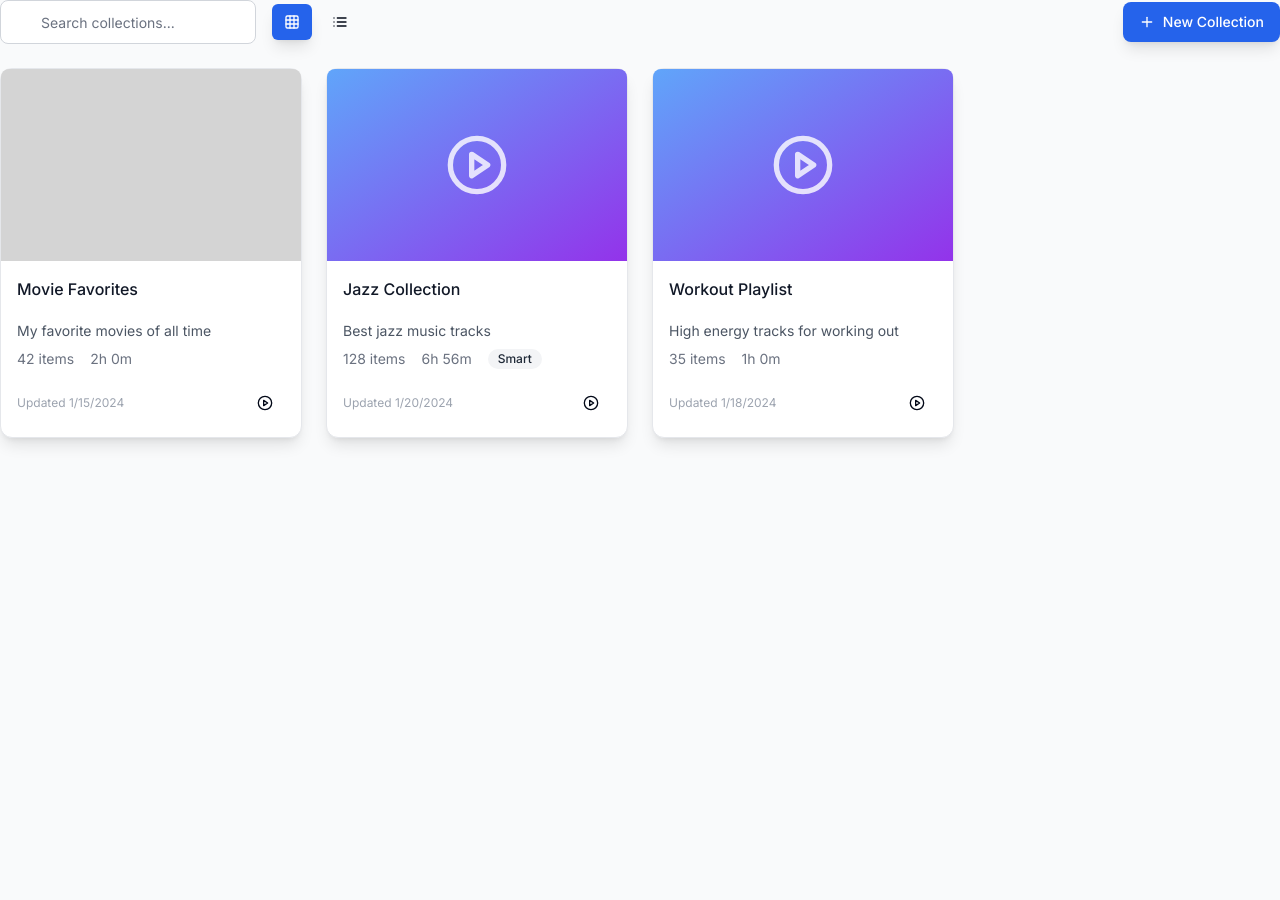
Test: CollectionsManager › closes create modal when Cancel is clicked
Click the button "New Collection" at (1201, 22), box [1123,2,1279,42]
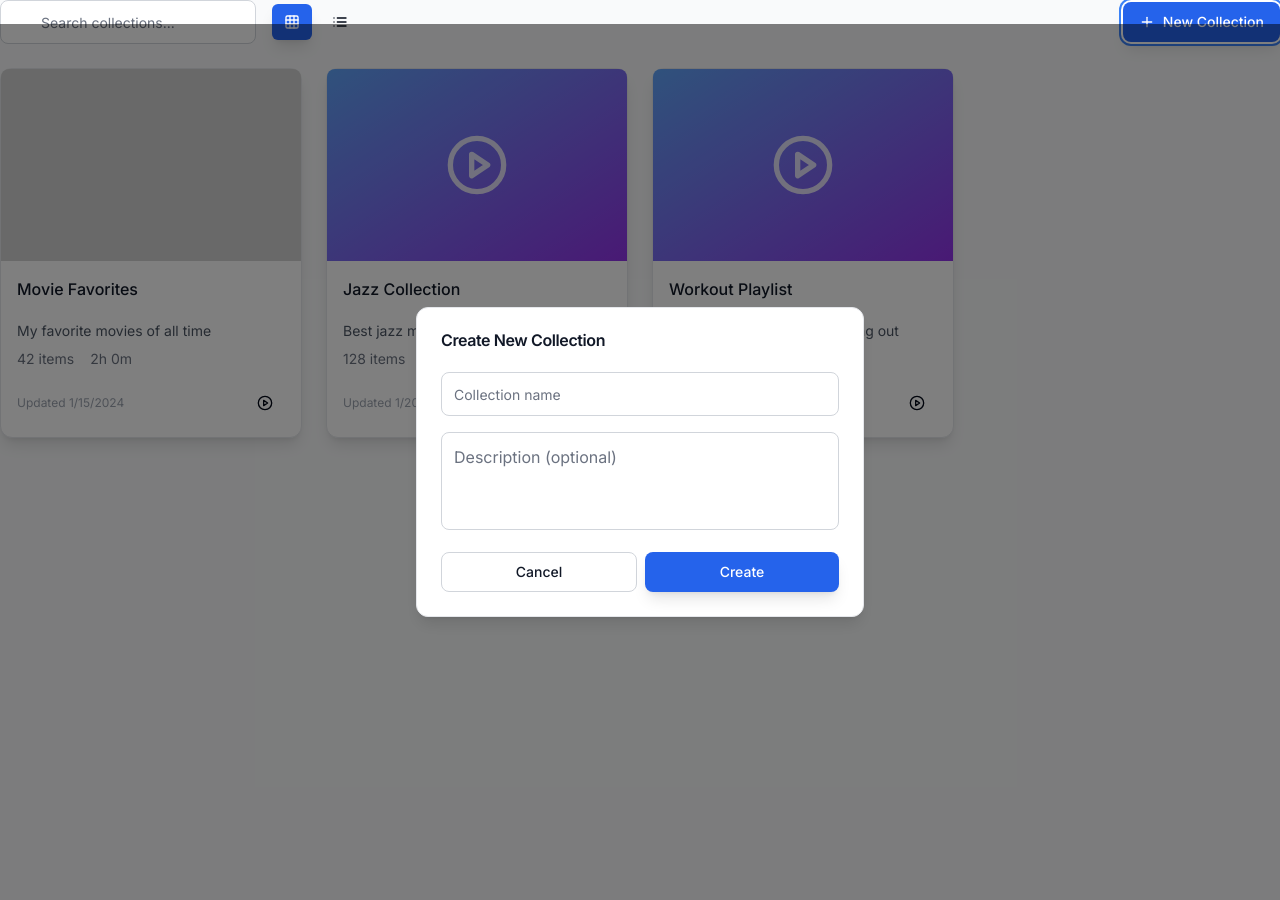
Check: the heading "Create New Collection" is shown, box [441,330,605,350]
Click the button "Cancel" at (539, 572), box [441,552,637,592]
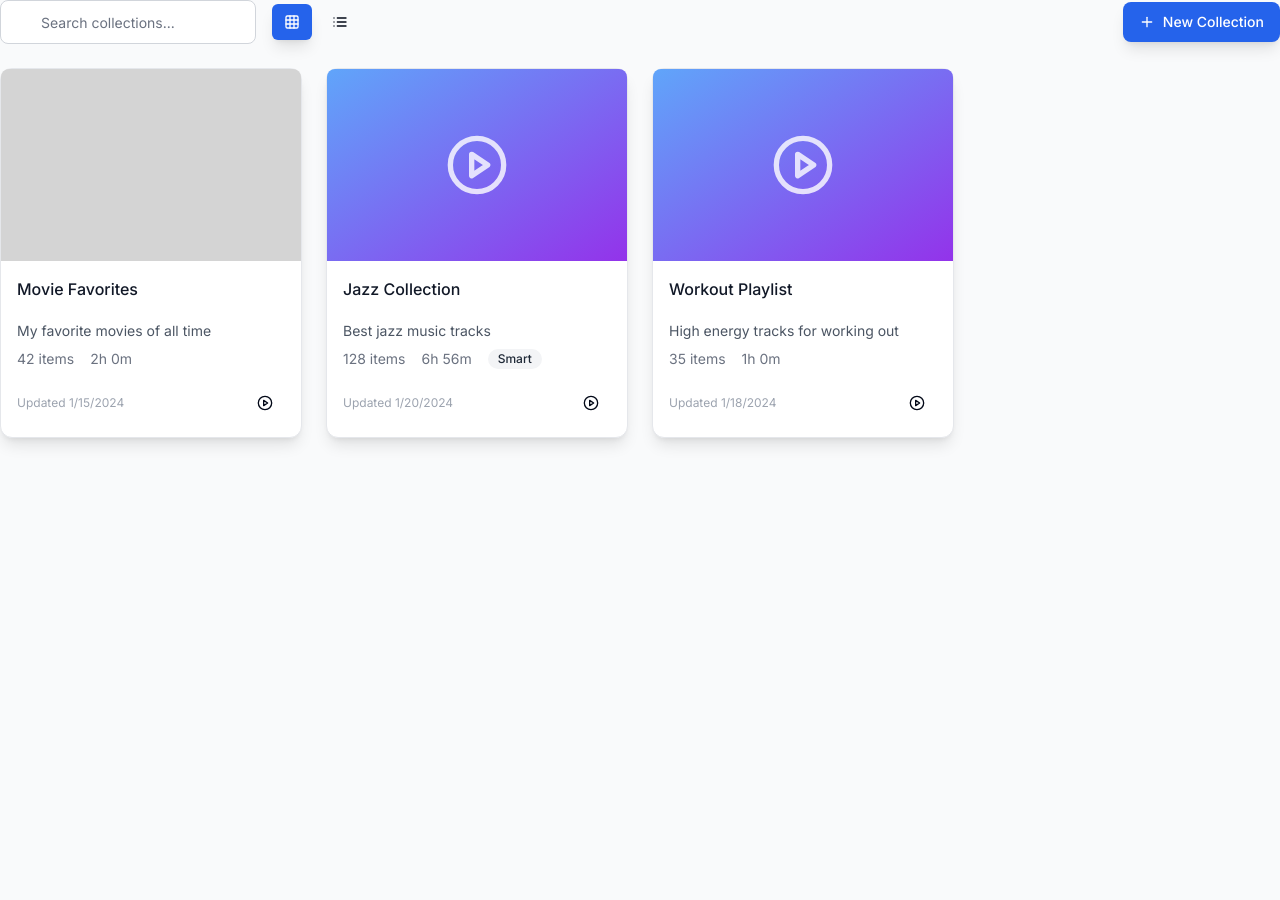
Check: the heading "Create New Collection" is gone
